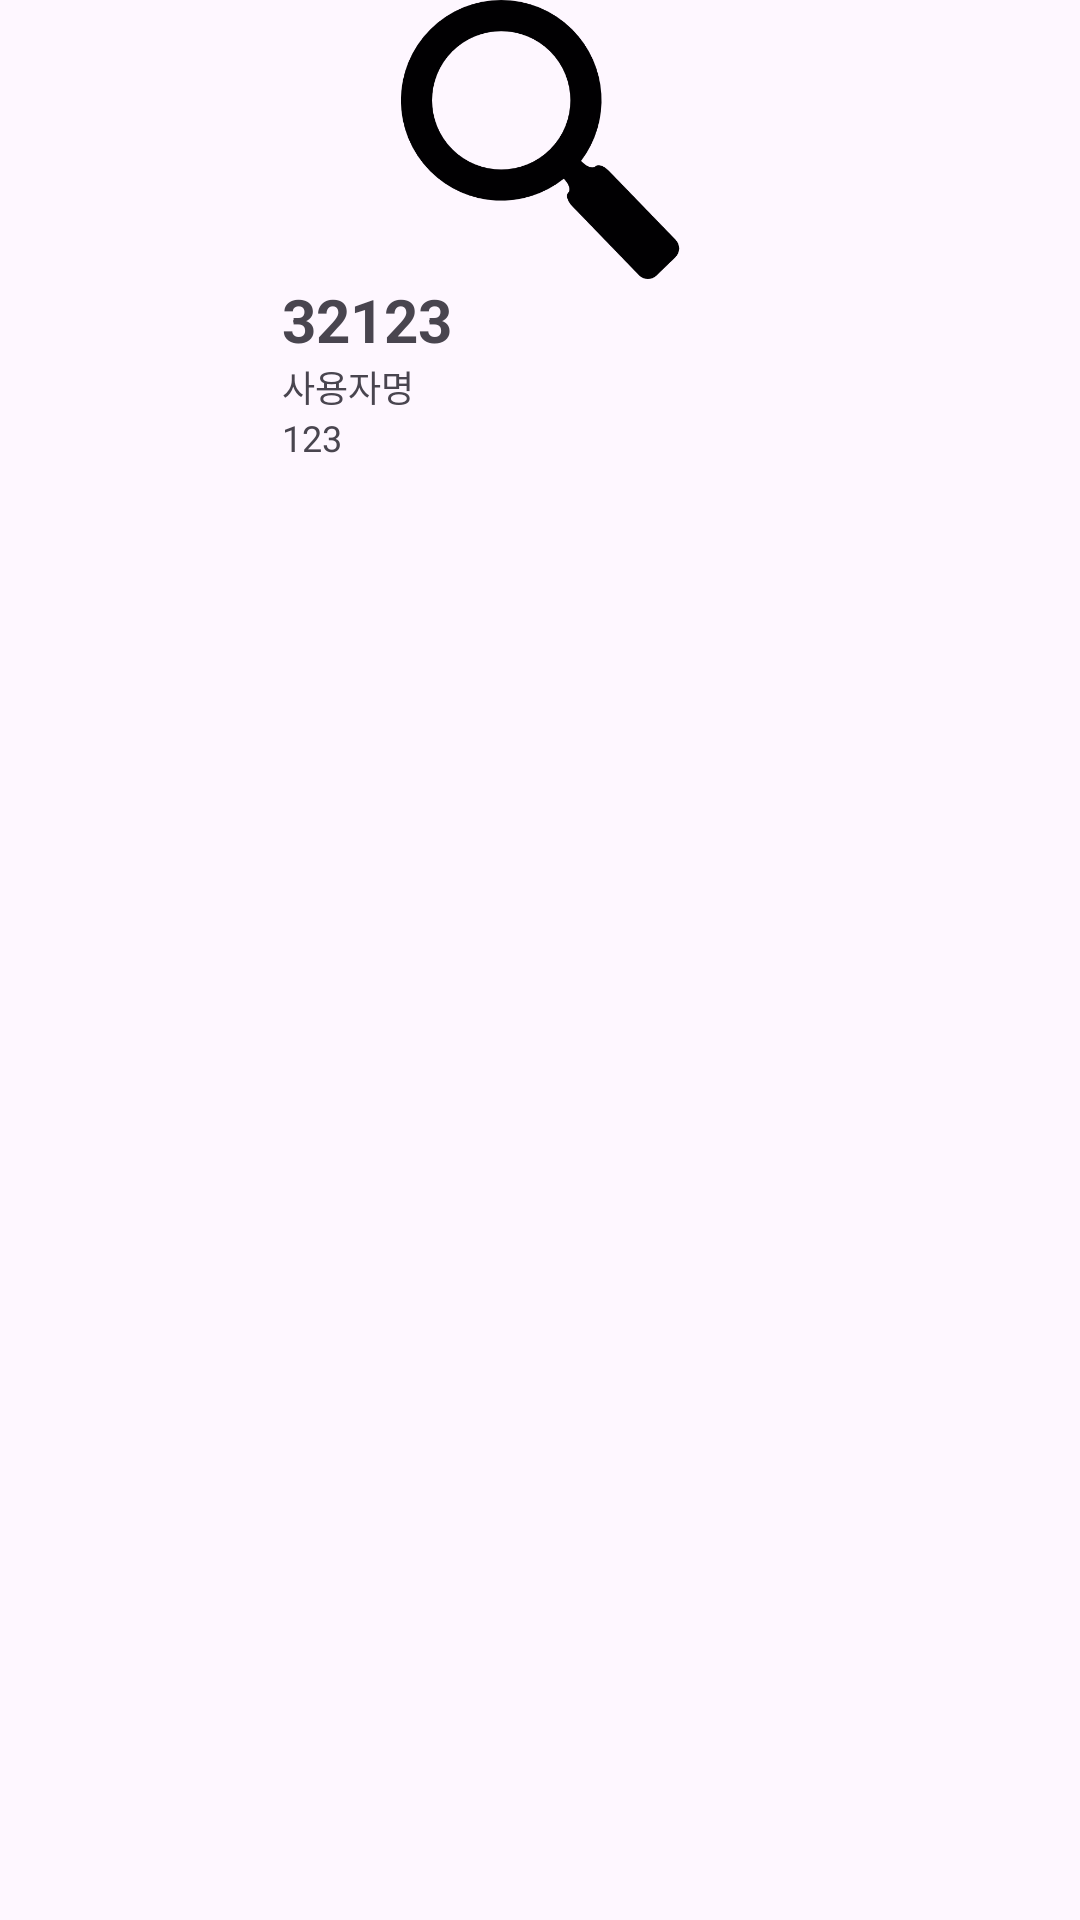

Icon click points for this 1080 × 1920 phone screenshot, format (x=x, y=y):
search: (x=540, y=139)
